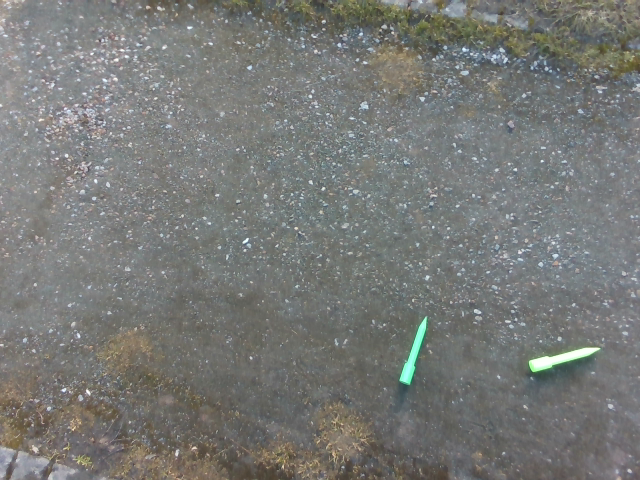Probe: (526, 341, 604, 380), (394, 313, 431, 395)
